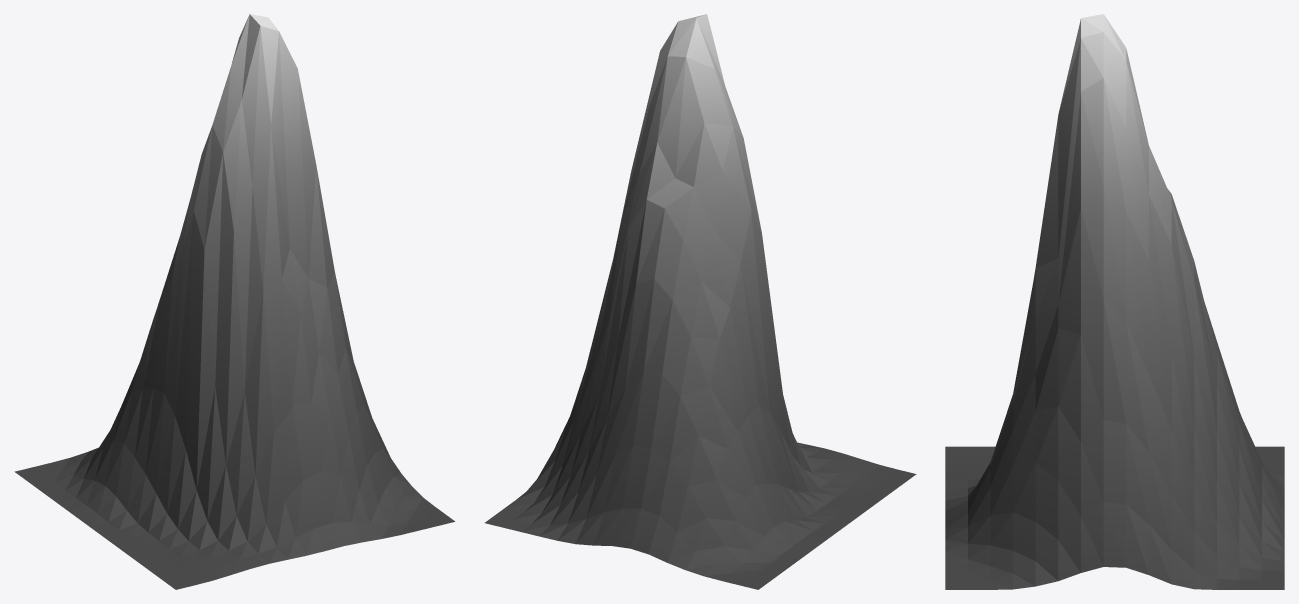
Rendered from Model_Mountain.FBX.
3 views of the same model, side by side, from view 1: azimuth 30°, elevation 25°; view 2: azimuth 150°, elevation 25°; view 3: azimuth 270°, elevation 25° (orthographic). The views are drawn at different scales.
Visible parts, largest first — view 1: Plane001; view 2: Plane001; view 3: Plane001.
Boxes of the visible parts, <box> form: Plane001: <box>14,14,455,589</box>; Plane001: <box>485,14,916,589</box>; Plane001: <box>945,14,1284,589</box>.
Bounding box in the file's own units: 11101 × 18366 × 11101.
